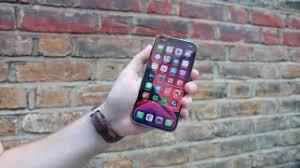Hand: (100, 43, 200, 127)
Smartphone: (134, 32, 197, 131)
